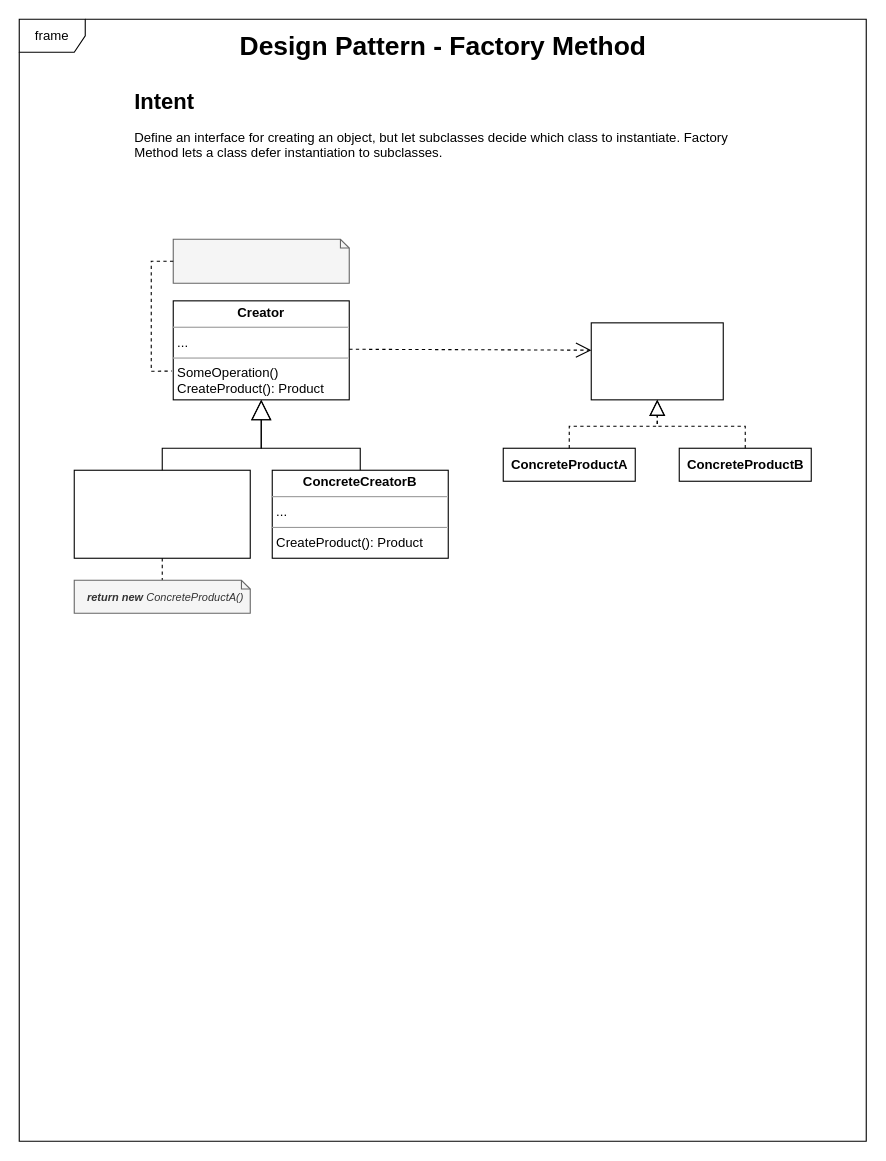
Some shapes in this 886 by 1161 pixel diagram are drawn without their labels. The shapes that lost their labels are listed below. From the top down, each one's box as (x1, y1, x2, y2) in pixels, then its label:
(172, 238, 349, 283): Product p = CreateProduct() p.DoStuff()
(590, 322, 723, 400): <<Interface>> Product DoStuff()
(73, 469, 250, 558): ConcreteCreatorA ... CreateProduct(): Product
